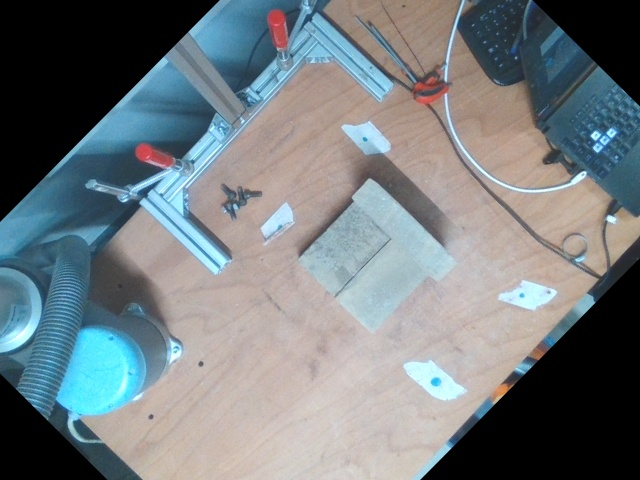brick-side: (352, 177, 458, 283)
